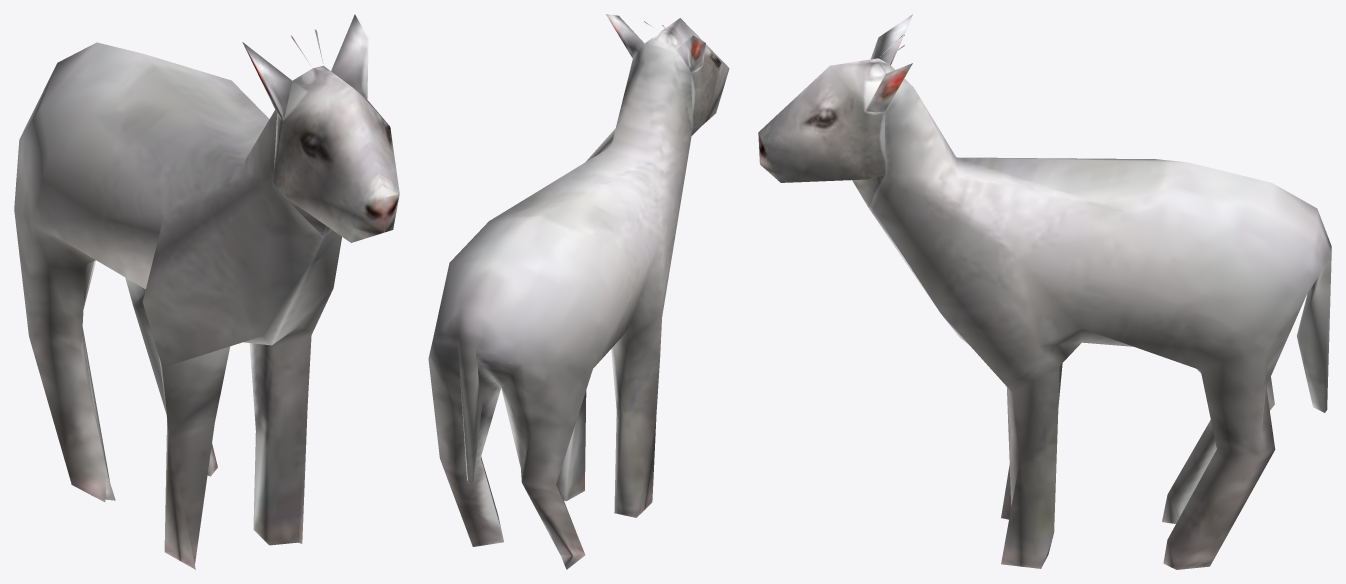
File: Sheep.glb
3 views of the same model, side by side, from view 1: azimuth 30°, elevation 25°; view 2: azimuth 150°, elevation 25°; view 3: azimuth 270°, elevation 25° (orthographic). The views are drawn at different scales.
Parts seen in each view (by area): view 1: 3d66-Editable_mesh-20878046-001; view 2: 3d66-Editable_mesh-20878046-001; view 3: 3d66-Editable_mesh-20878046-001.
Boxes of the visible parts, box(x1,y1,x2,y2) form: 3d66-Editable_mesh-20878046-001: box(14, 14, 399, 569); 3d66-Editable_mesh-20878046-001: box(428, 14, 729, 569); 3d66-Editable_mesh-20878046-001: box(758, 14, 1331, 569).
Bounding box in the file's own units: 0.3661 × 0.9951 × 1.03.
Materials: 1 (1 with a texture image).
